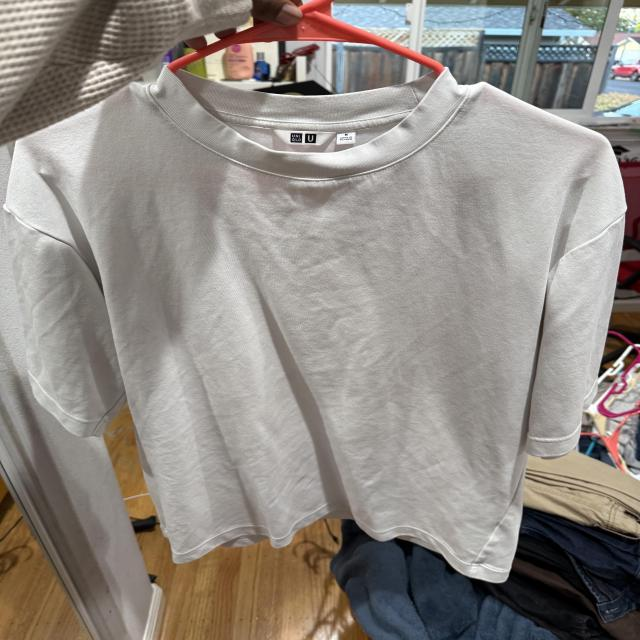back_tag: (267, 122, 372, 150)
